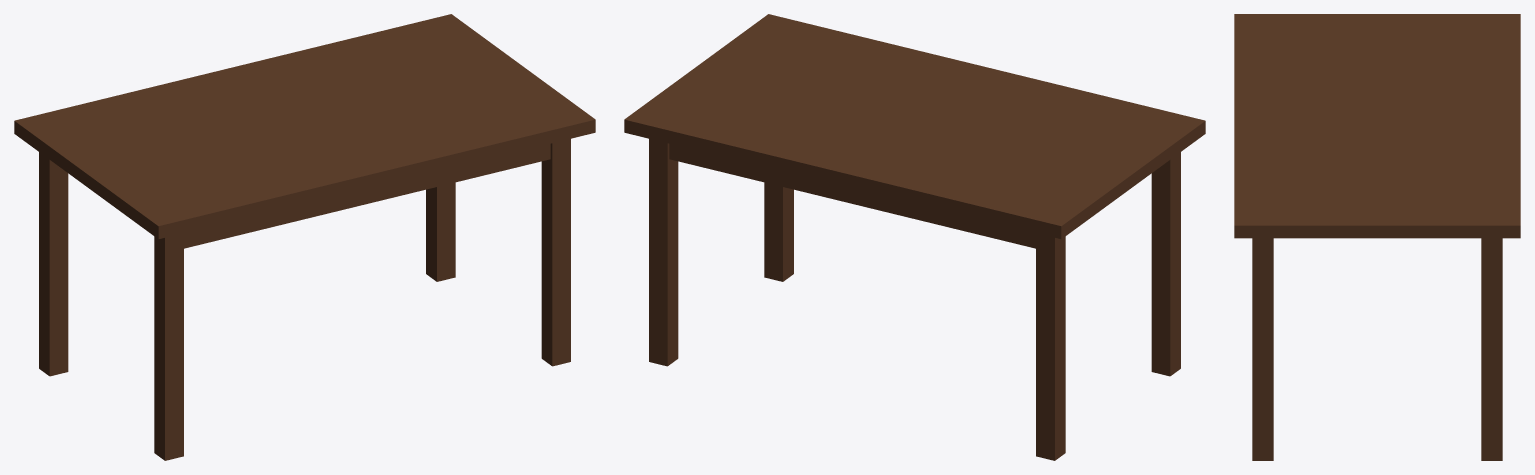
File: dining-table.glb
3 renders of one model, left to right at view 1: azimuth 30°, elevation 25°; view 2: azimuth 150°, elevation 25°; view 3: azimuth 270°, elevation 25°, orthographic.
Visible parts, largest first — view 1: Dining table; view 2: Dining table; view 3: Dining table.
Boxes of the visible parts, bbox=[...] form: Dining table: bbox=[14, 14, 595, 460]; Dining table: bbox=[624, 14, 1205, 460]; Dining table: bbox=[1234, 14, 1520, 460].
Bounding box in the file's own units: 1.4 × 0.75 × 0.8.
